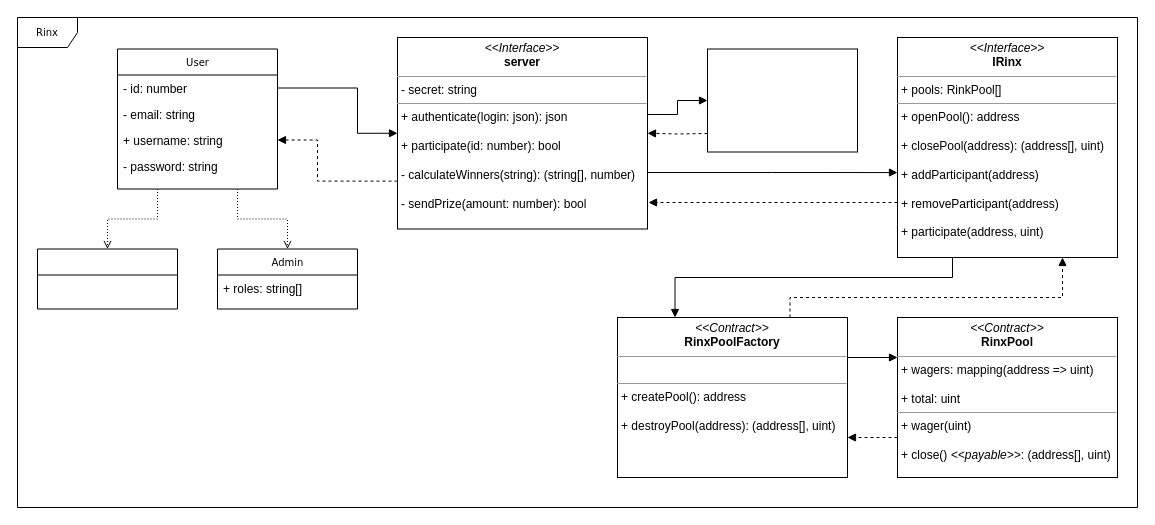
Some shapes in this 1155 by 525 pixel diagram are drawn without their labels. The centre of each missing label's shape, as x and y in pixels:
"<<Interface>> statsAPI + expand: string + getLatestScores(): json" goes at (782,100).
"Participant" goes at (107,278).
